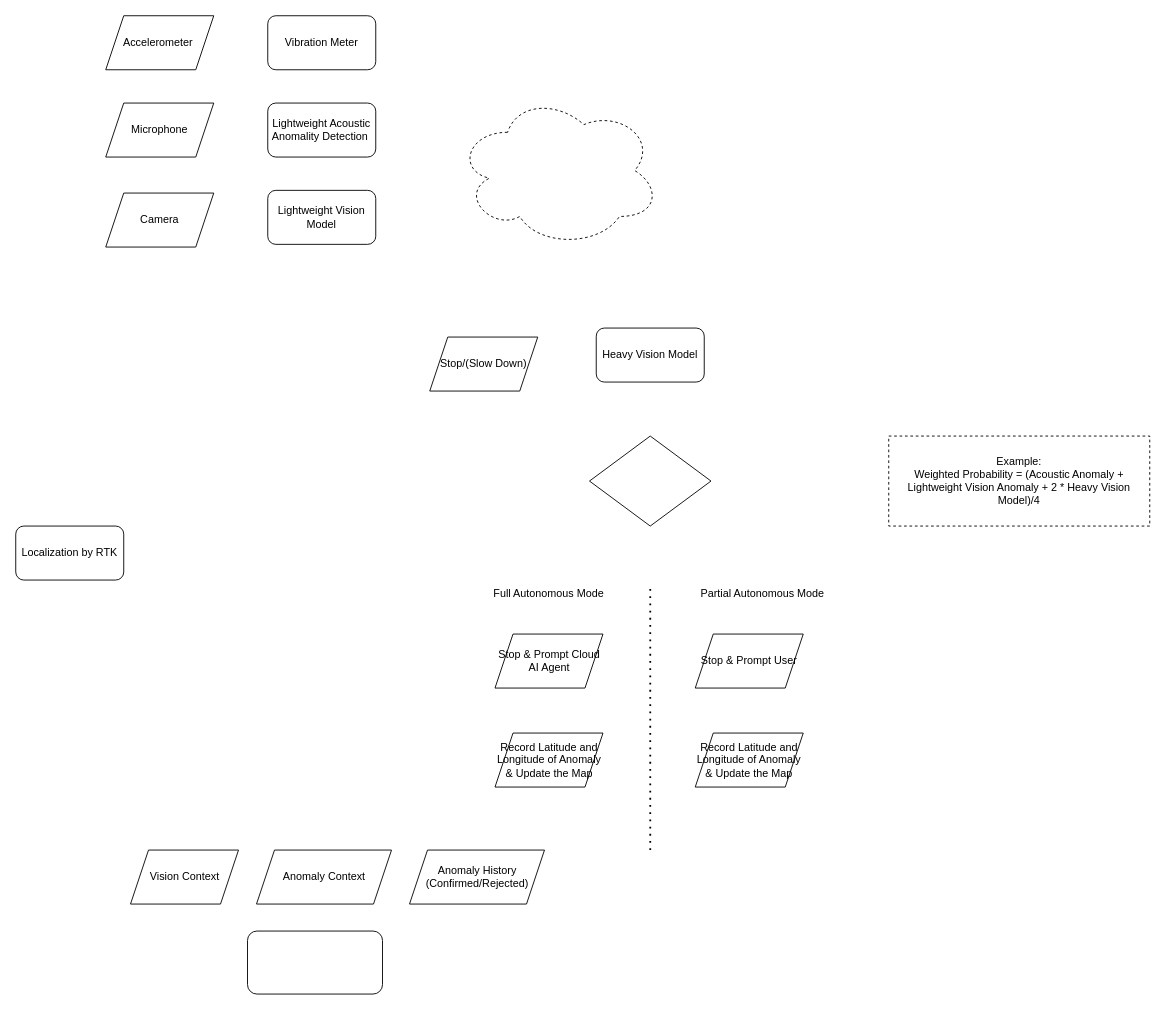
Image size: 1166x1010. Some labels were removed from this diagram. Here are the shapes that lost their labels. From the top down, the centre of each, then its label:
the point at 558,170: IN CASE ANY: Acoustic: 70% Vision: 40% Vibration threshold: +5%
the point at 650,480: Weighted Probability > 50%
the point at 314,962: Cloud AI Agent
